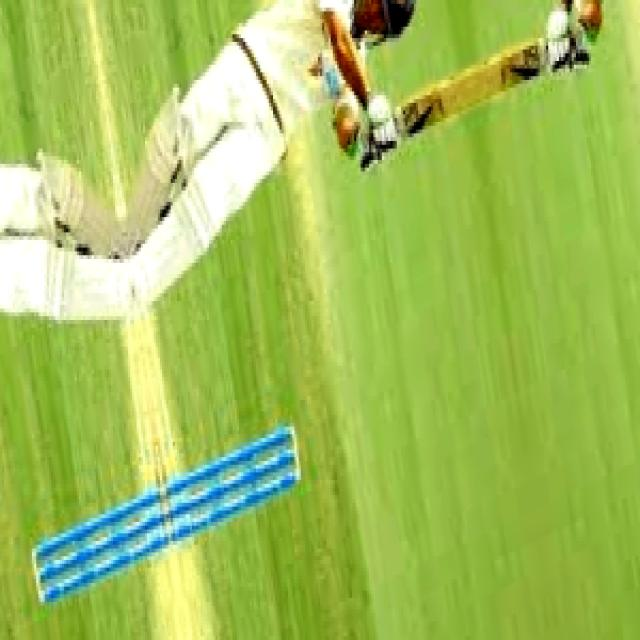toe: (520, 36, 536, 86)
